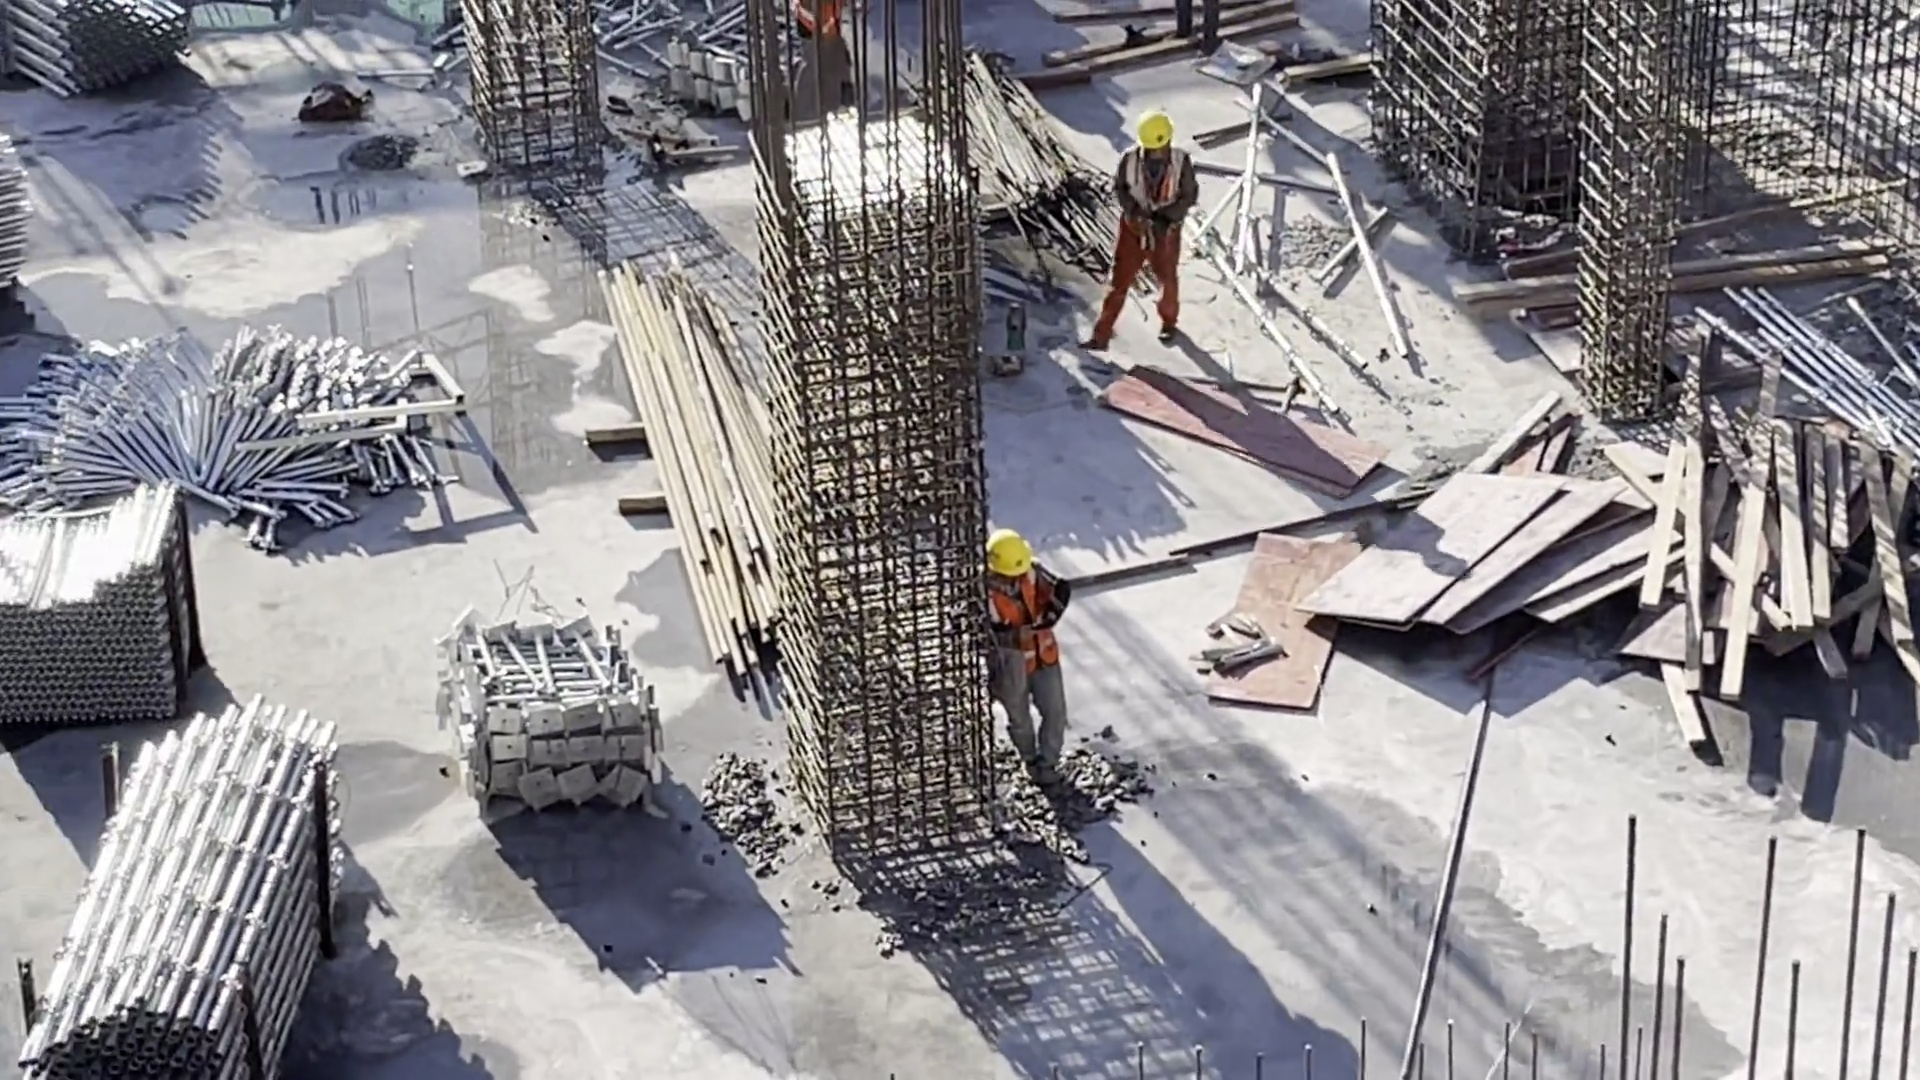board: (1285, 465, 1657, 650)
helmet: (988, 520, 1041, 568), (1136, 113, 1182, 146)
person: (969, 524, 1085, 795), (1097, 112, 1208, 353), (780, 1, 875, 111)
scaffold: (56, 731, 348, 1064), (38, 333, 459, 522), (1, 479, 230, 744), (447, 609, 650, 814), (649, 7, 815, 112), (1, 2, 206, 87)
vest: (989, 568, 1071, 664), (1123, 145, 1193, 240), (793, 1, 852, 39)
wood: (1667, 403, 1901, 679)
